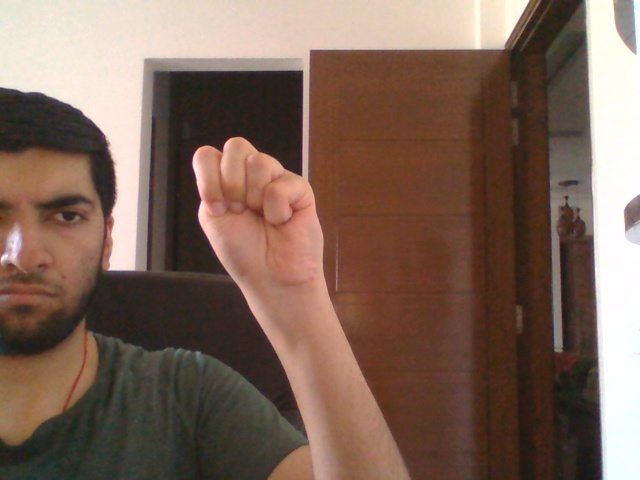LetterM: (191, 137, 326, 285)
